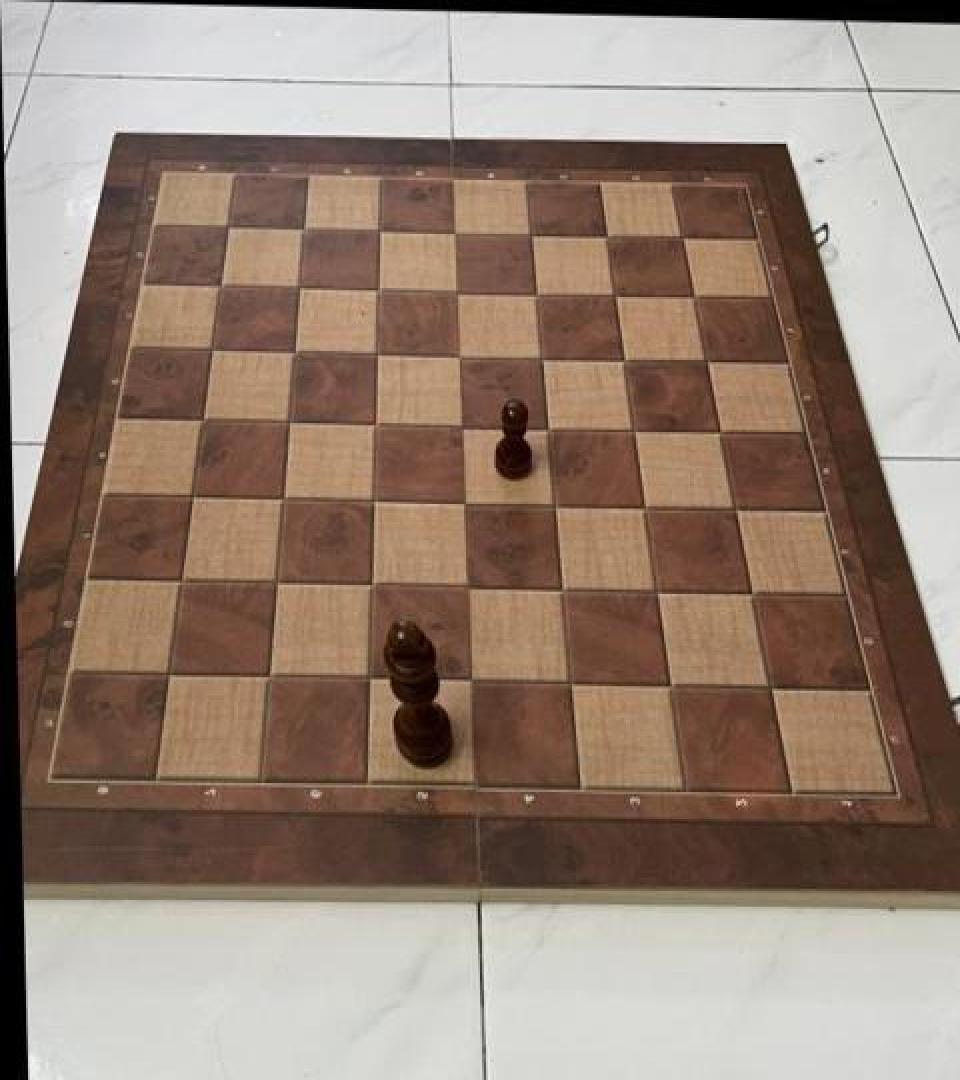xcorner: (211, 209, 247, 250), (589, 217, 625, 258), (664, 219, 700, 260), (361, 271, 397, 312), (440, 272, 476, 313), (359, 334, 395, 375), (441, 336, 477, 377), (529, 407, 565, 448), (265, 478, 301, 519), (355, 479, 391, 520), (716, 487, 752, 528), (163, 560, 199, 601), (258, 561, 294, 602), (543, 568, 579, 609), (637, 569, 673, 610), (450, 659, 486, 700), (550, 660, 586, 701), (287, 212, 323, 252), (362, 213, 398, 253), (438, 214, 474, 254), (513, 216, 549, 256), (203, 268, 239, 308), (282, 269, 318, 309), (518, 275, 554, 315), (597, 276, 633, 316), (675, 278, 711, 318), (195, 331, 231, 371), (277, 333, 313, 373), (523, 338, 559, 378), (606, 340, 642, 380), (688, 341, 724, 381), (185, 401, 221, 441), (271, 402, 307, 442), (357, 404, 393, 444), (443, 405, 479, 445), (615, 410, 651, 450), (701, 411, 737, 451), (175, 476, 211, 516), (445, 482, 481, 522), (536, 484, 572, 524), (626, 485, 662, 525), (353, 564, 389, 604), (448, 566, 484, 606), (732, 572, 768, 612), (150, 653, 186, 693), (250, 655, 286, 695), (350, 657, 386, 697), (650, 663, 686, 703), (750, 665, 786, 705)
